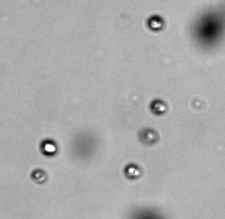Dead Cell: (150, 98, 166, 114), (141, 129, 158, 143), (31, 169, 47, 183), (125, 165, 140, 179)
Living Cell: (40, 139, 57, 156), (148, 15, 164, 31)
